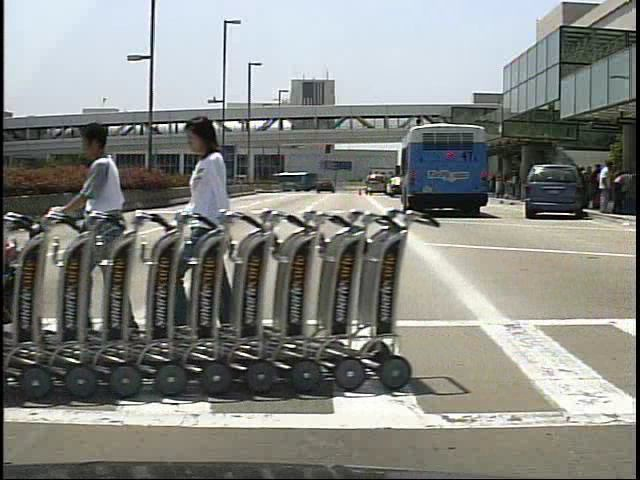person: (172, 112, 258, 350), (62, 120, 141, 339), (597, 160, 618, 216), (589, 161, 605, 214)
